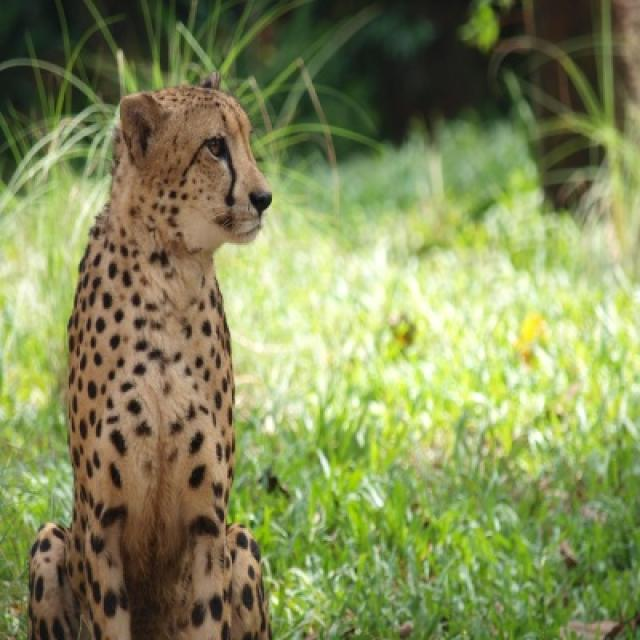Cheetah: (27, 85, 274, 638)
